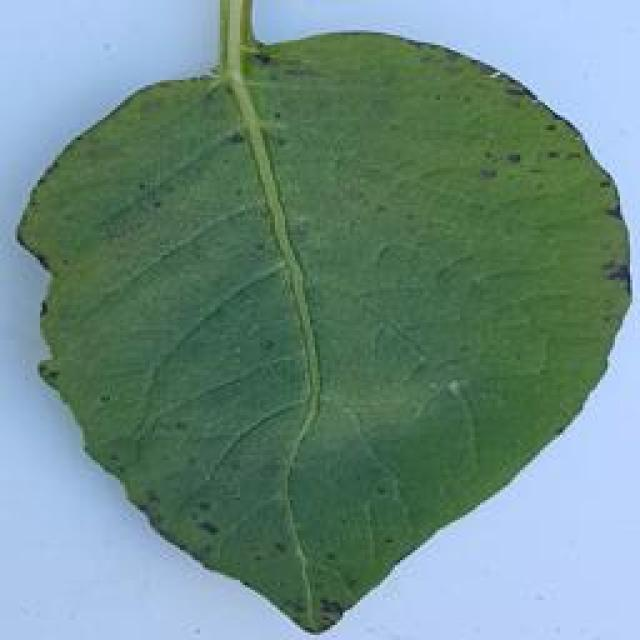Potato_Early_Blight: (12, 20, 640, 640)
